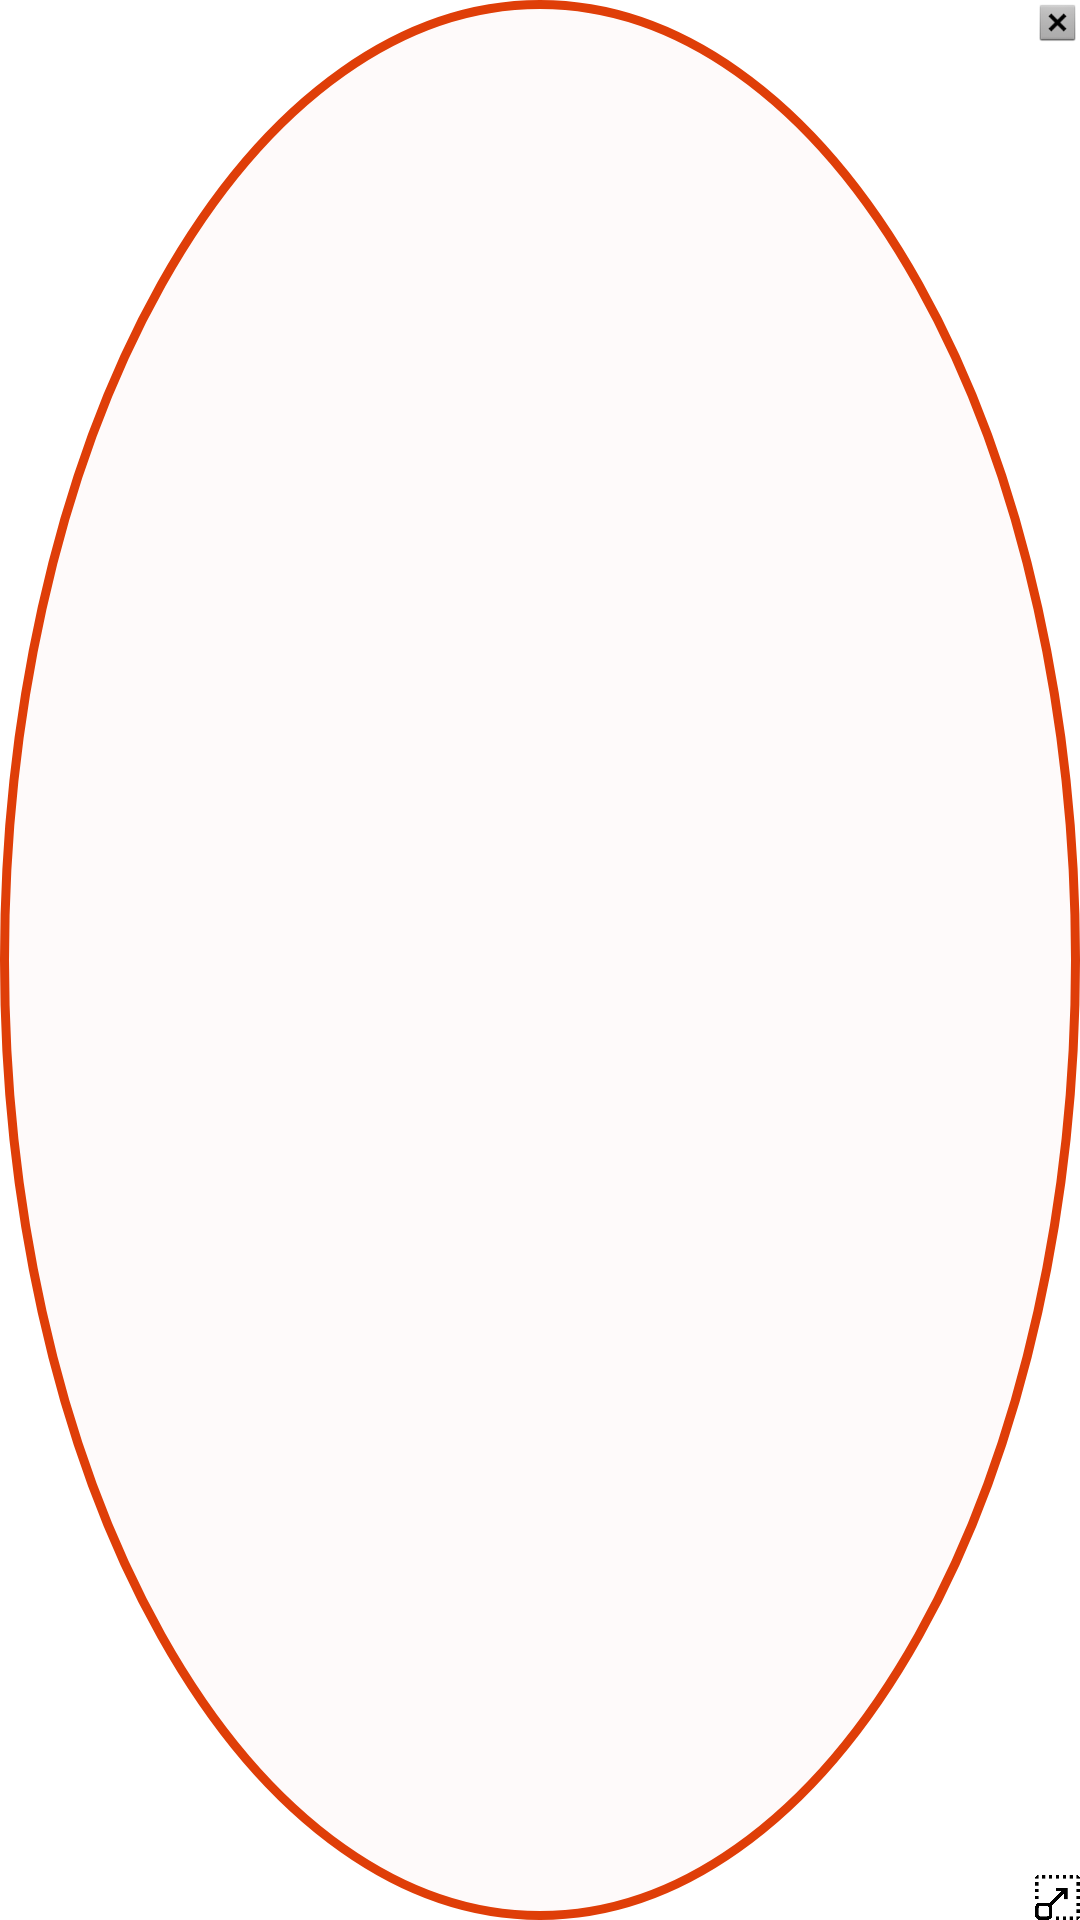

Where icons sit on this 1080×1920 app screen, as (x1, y1, x2, y2):
resize: (1035, 1875, 1080, 1920)
